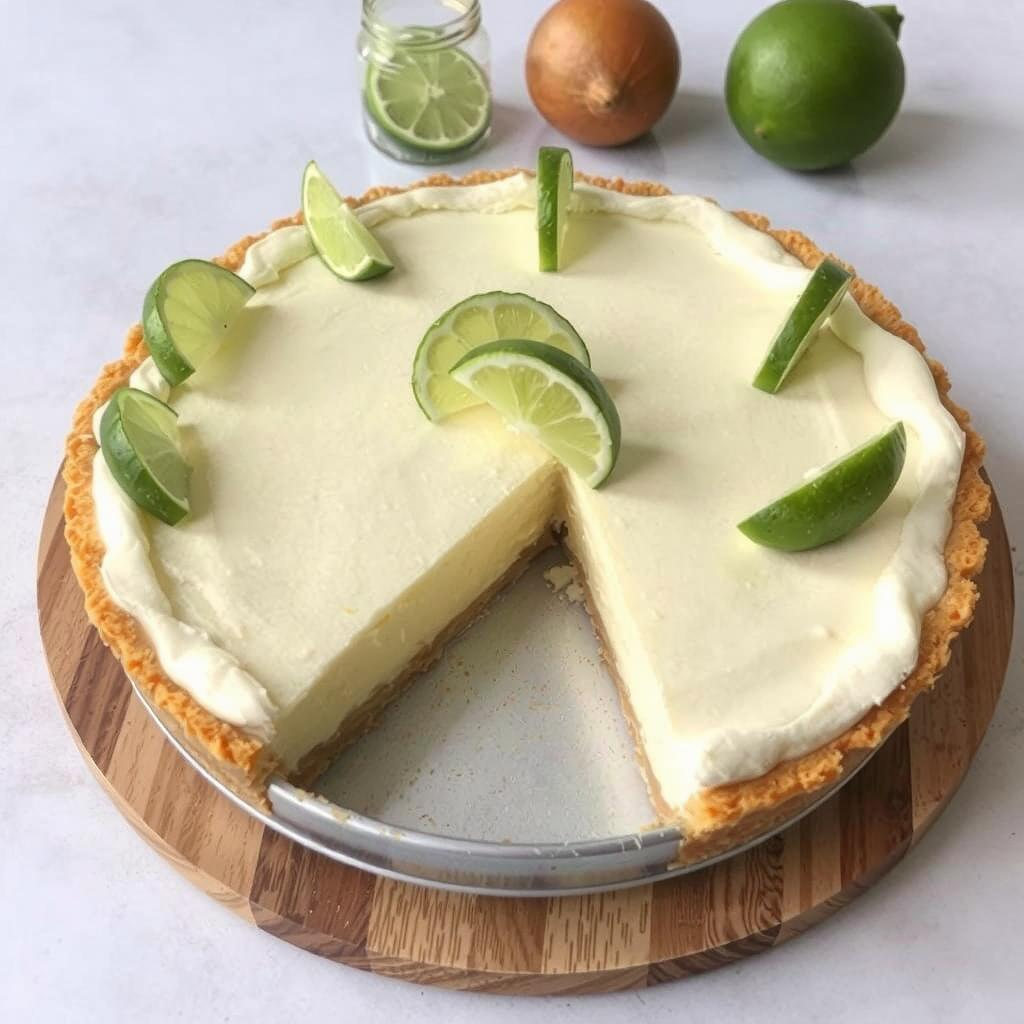pie: (56, 144, 1000, 867)
